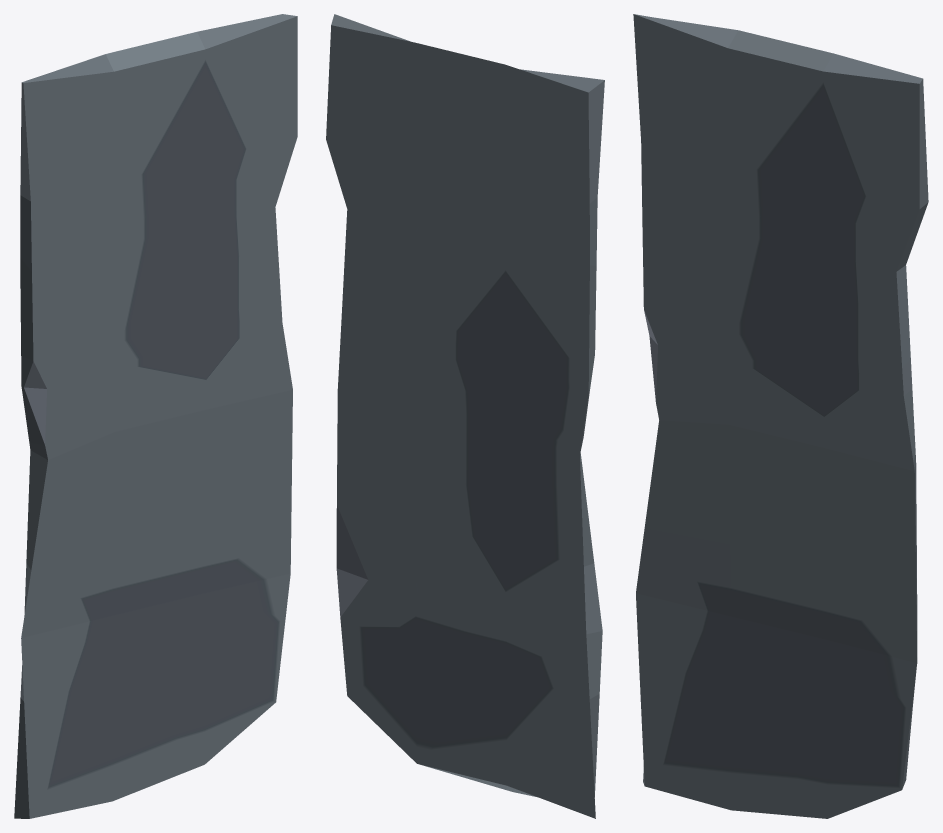
The model's file is SM_Metal_Sheet_C.gltf.
The picture shows the model from 3 angles, left to right: view 1: azimuth 30°, elevation 25°; view 2: azimuth 150°, elevation 25°; view 3: azimuth 330°, elevation 25°; orthographic projection. The views are drawn at different scales.
Parts seen in each view (by area): view 1: SM_Metal_Sheet_C; view 2: SM_Metal_Sheet_C; view 3: SM_Metal_Sheet_C.
Part boxes in pixels (bbox=[...]): SM_Metal_Sheet_C: bbox=[14, 14, 297, 818]; SM_Metal_Sheet_C: bbox=[326, 14, 604, 818]; SM_Metal_Sheet_C: bbox=[633, 14, 928, 818].
Size of the model in its own units: 0.6343 by 1.64 by 0.037.
Materials: 1 (1 with a texture image).
